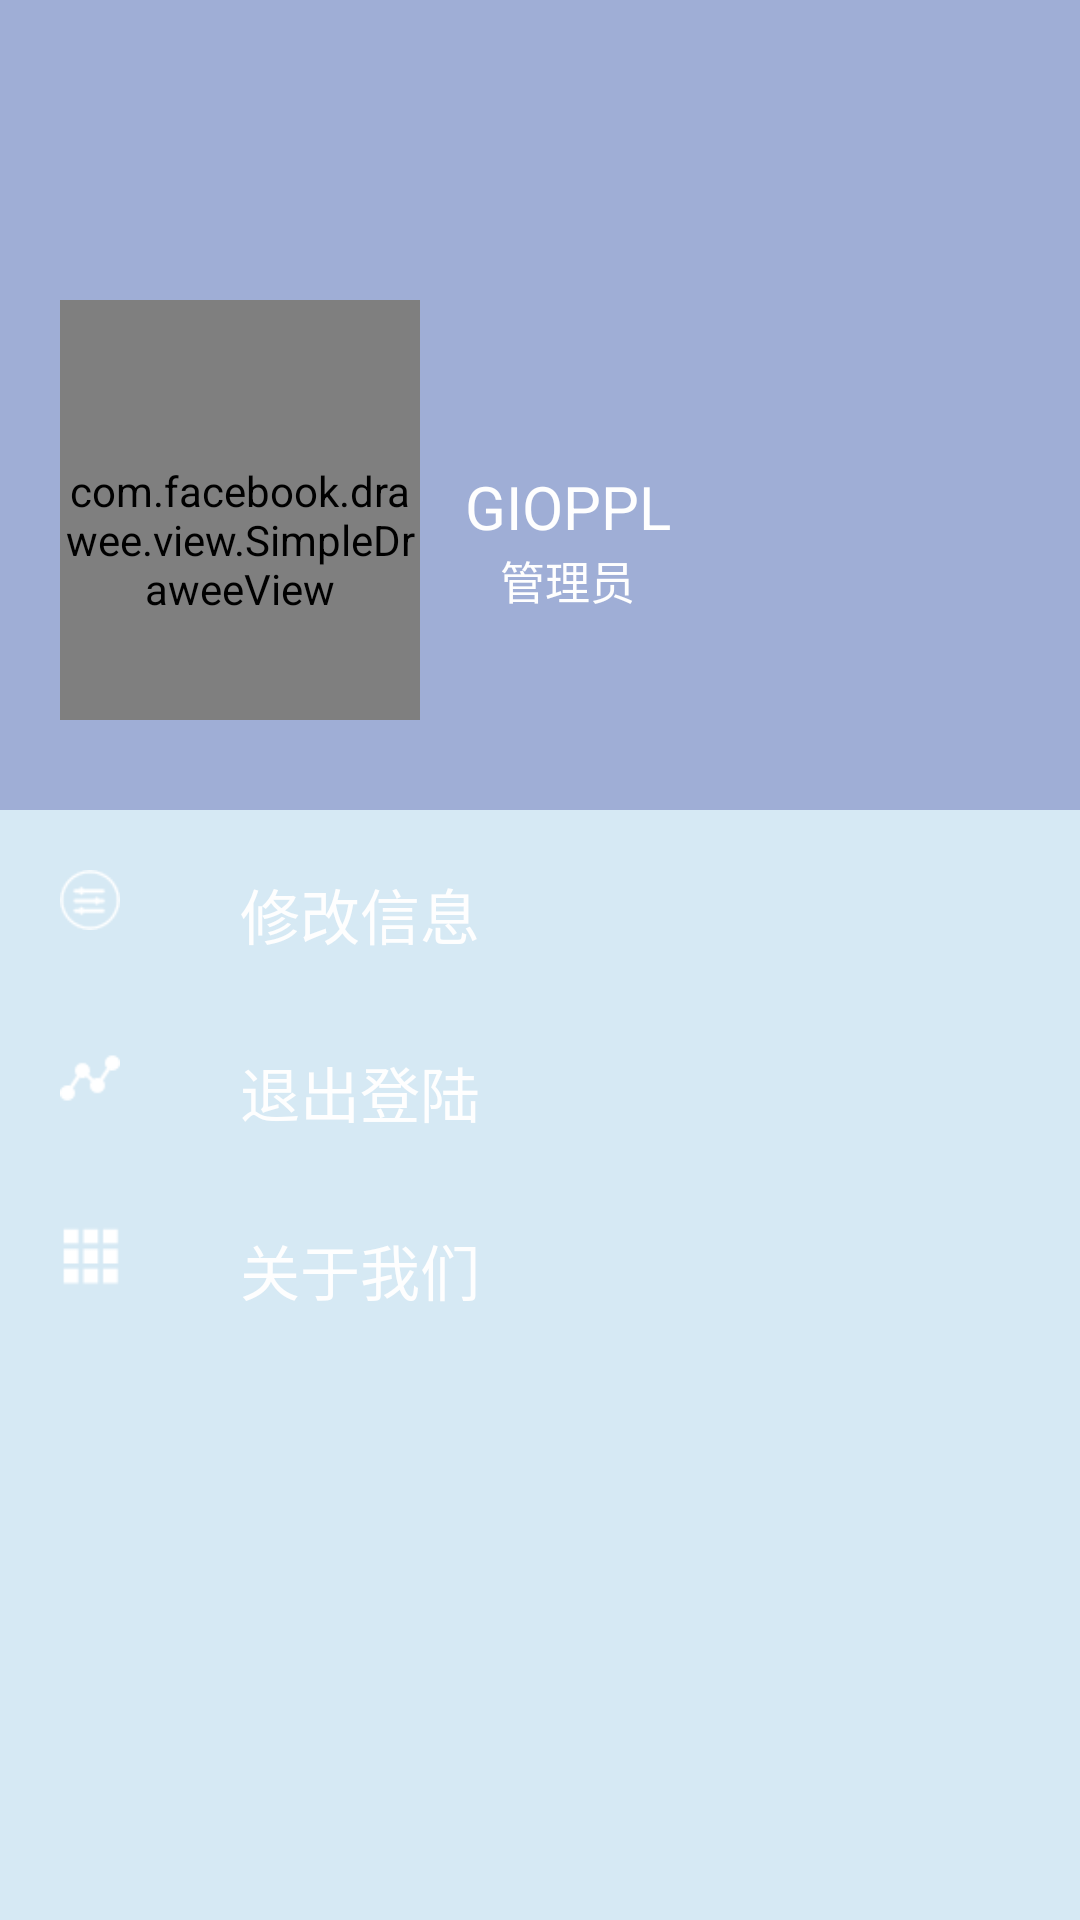

Named icons in this screenshot (1080 x 1920) and their bounding boxes, (x1, y1, x2, y2):
control: (60, 870, 120, 930)
data: (60, 1056, 120, 1100)
